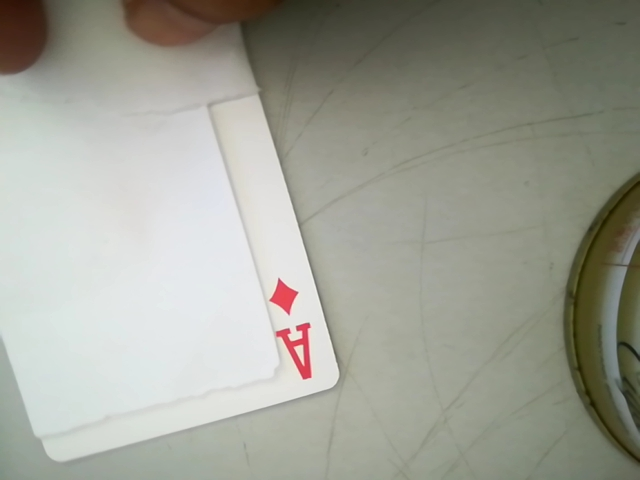fk a: (263, 272, 328, 390)
